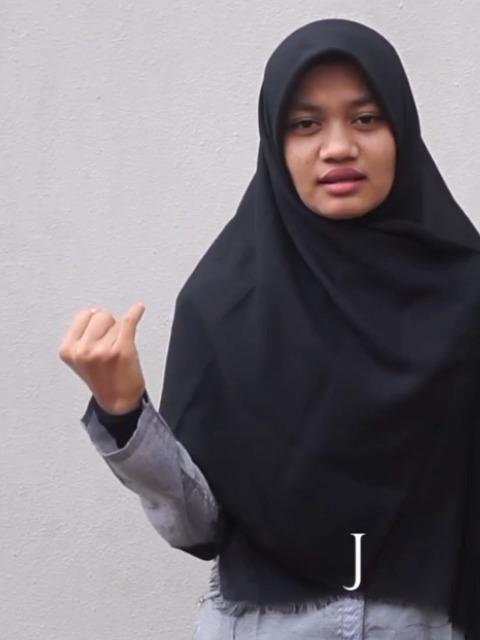J: (52, 284, 150, 394)
